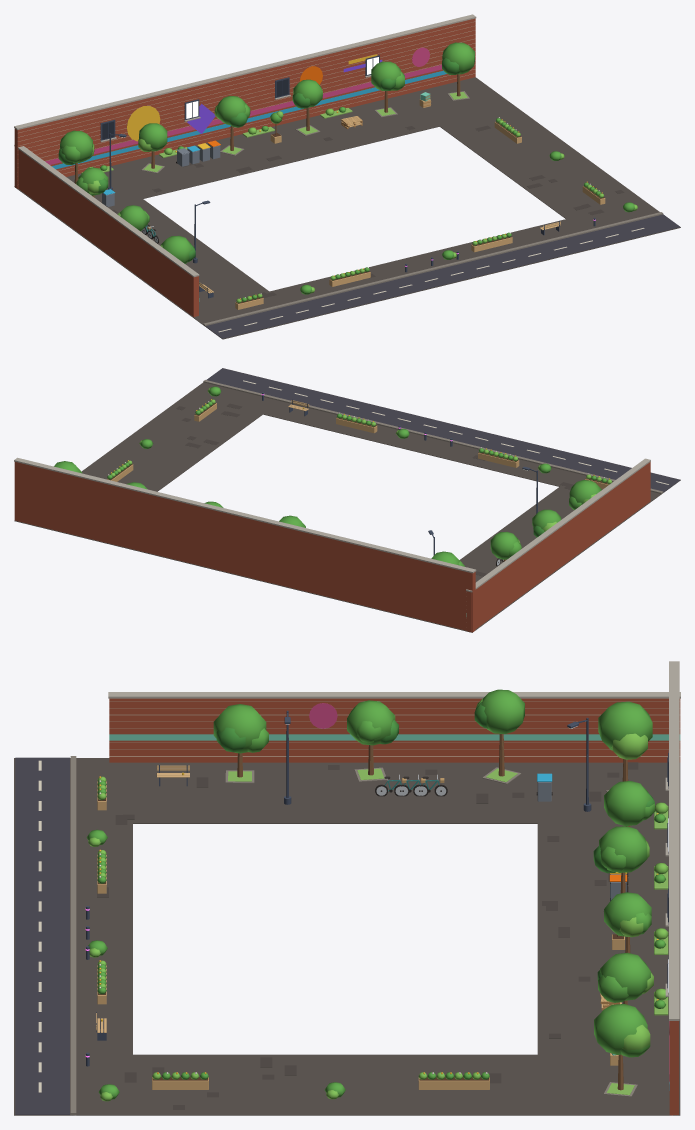
Rendered from umgebung.glb.
The picture shows the model from 3 angles, top to bottom: view 1: azimuth 30°, elevation 25°; view 2: azimuth 150°, elevation 25°; view 3: azimuth 270°, elevation 25°; orthographic projection. The views are drawn at different scales.
Parts seen in each view (by area): view 1: umgebung; view 2: umgebung; view 3: umgebung.
Part boxes in pixels (x1=…): umgebung: x1=14, y1=14, x2=680, y2=339; umgebung: x1=14, y1=368, x2=680, y2=632; umgebung: x1=14, y1=661, x2=680, y2=1115.
Bounding box in the file's own units: 35.56 × 4.52 × 28.03.
